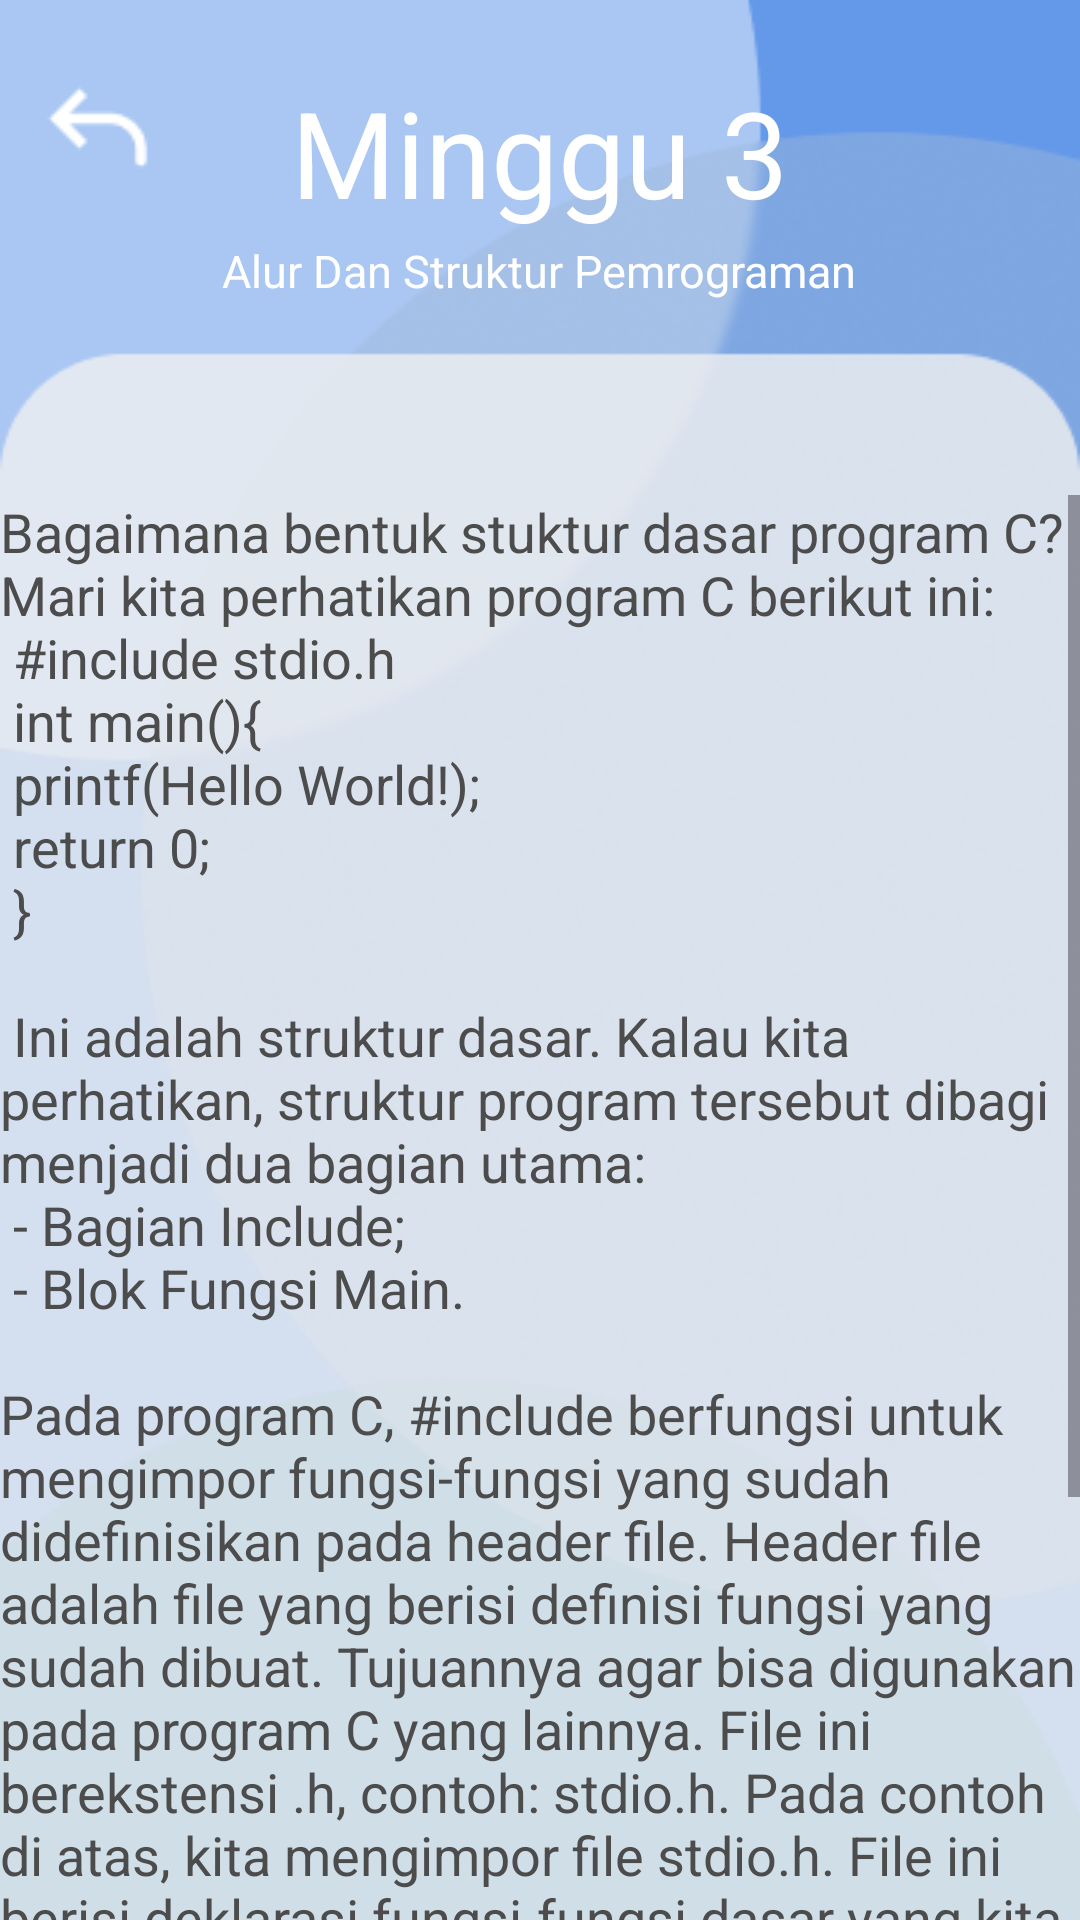

Named icons in this screenshot (1080*1920) and their centers, (x,y):
backbutton: (98,127)
